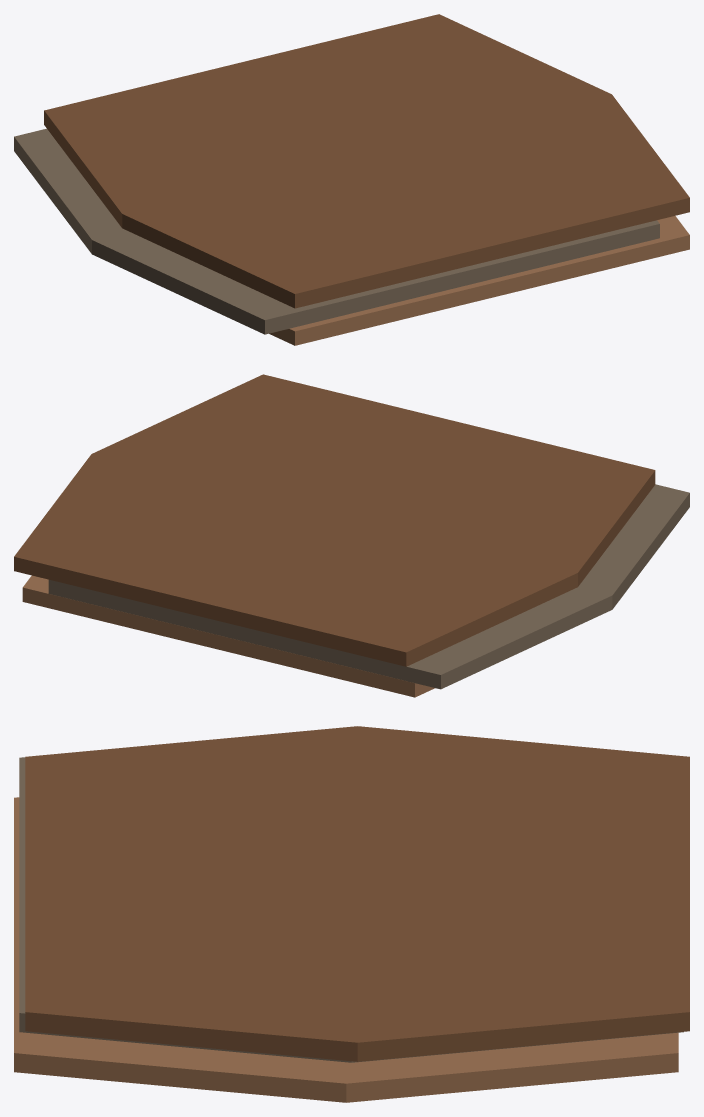
The model's file is pile_hides_1.glb.
3 views of the same model, one above another, from view 1: azimuth 30°, elevation 25°; view 2: azimuth 150°, elevation 25°; view 3: azimuth 270°, elevation 25° (orthographic). The views are drawn at different scales.
Visible parts, largest first — view 1: pile_hides_1; view 2: pile_hides_1; view 3: pile_hides_1.
Part boxes in pixels (x1,y1,x2,y2): pile_hides_1: [14, 14, 689, 345]; pile_hides_1: [14, 374, 689, 697]; pile_hides_1: [14, 726, 689, 1102].
Bounding box in the file's own units: 1.32 × 0.115 × 1.12.
